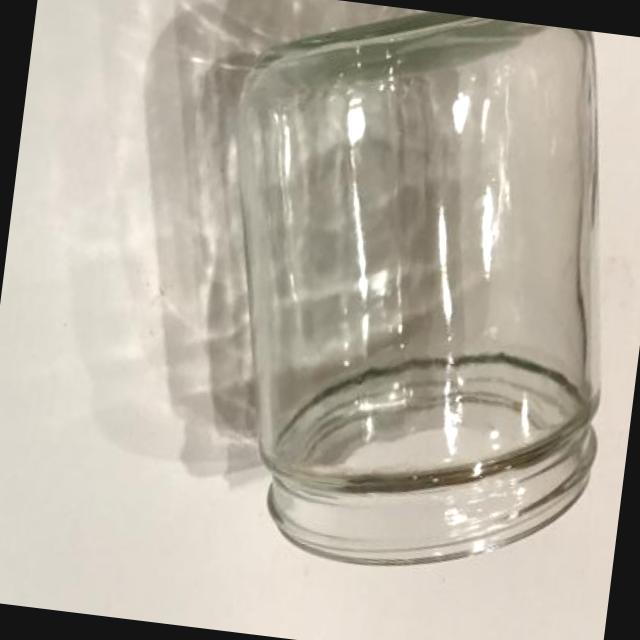chai_thuy_tinh: (236, 12, 599, 565)
